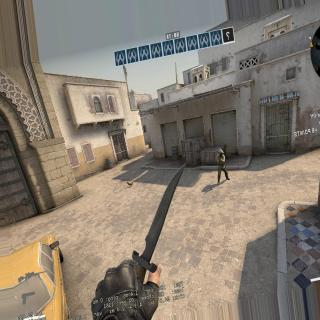CT-Body: (216, 147, 230, 178)
CT-Head: (219, 150, 223, 156)
